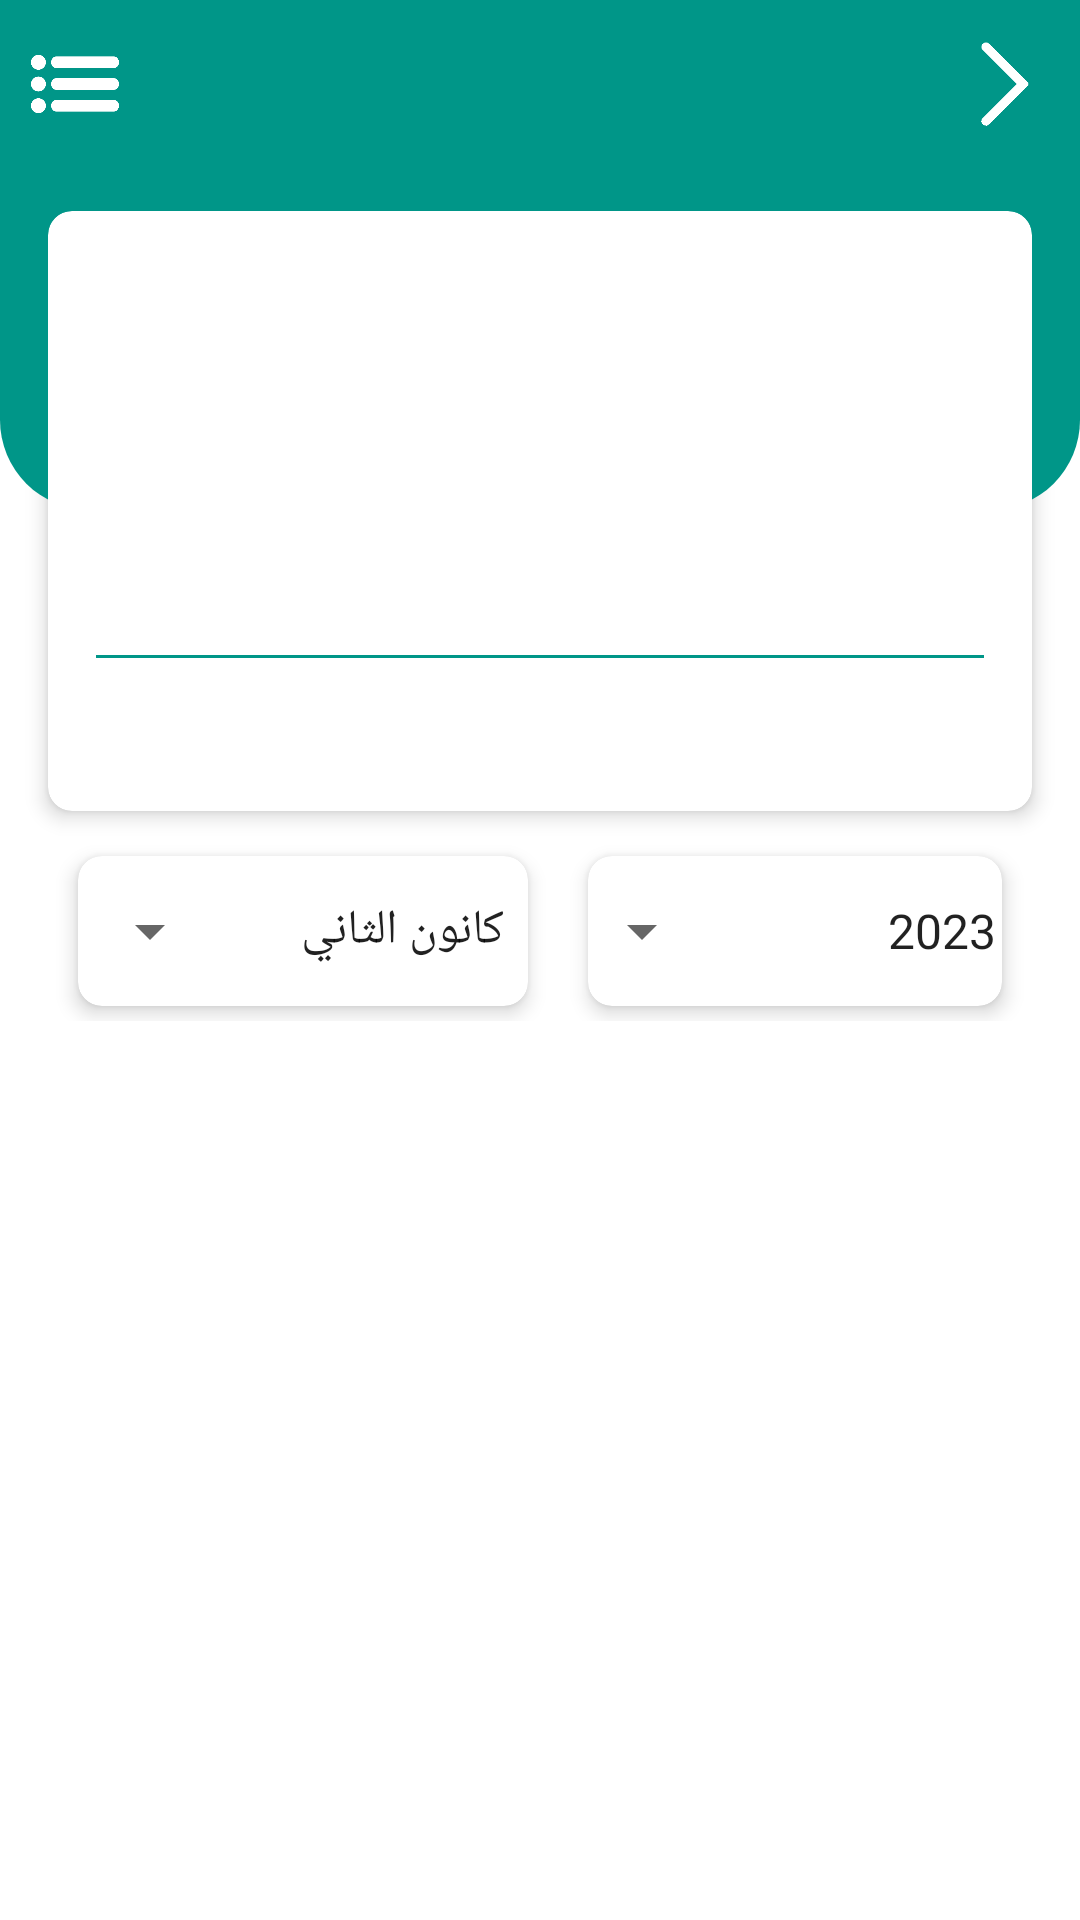

Point at icon controls on the screen. Image size 1080px x 1920px, points as (x,y).
iconmenu: (75,84)
